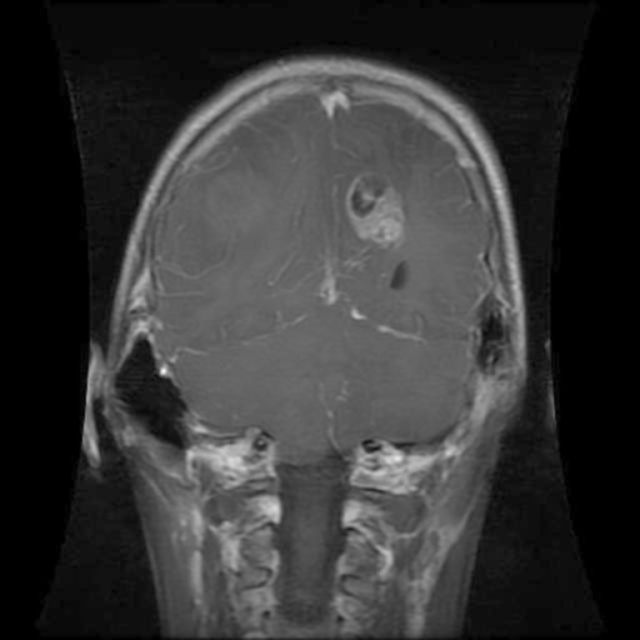pituitary tumor: (345, 172, 409, 248)
